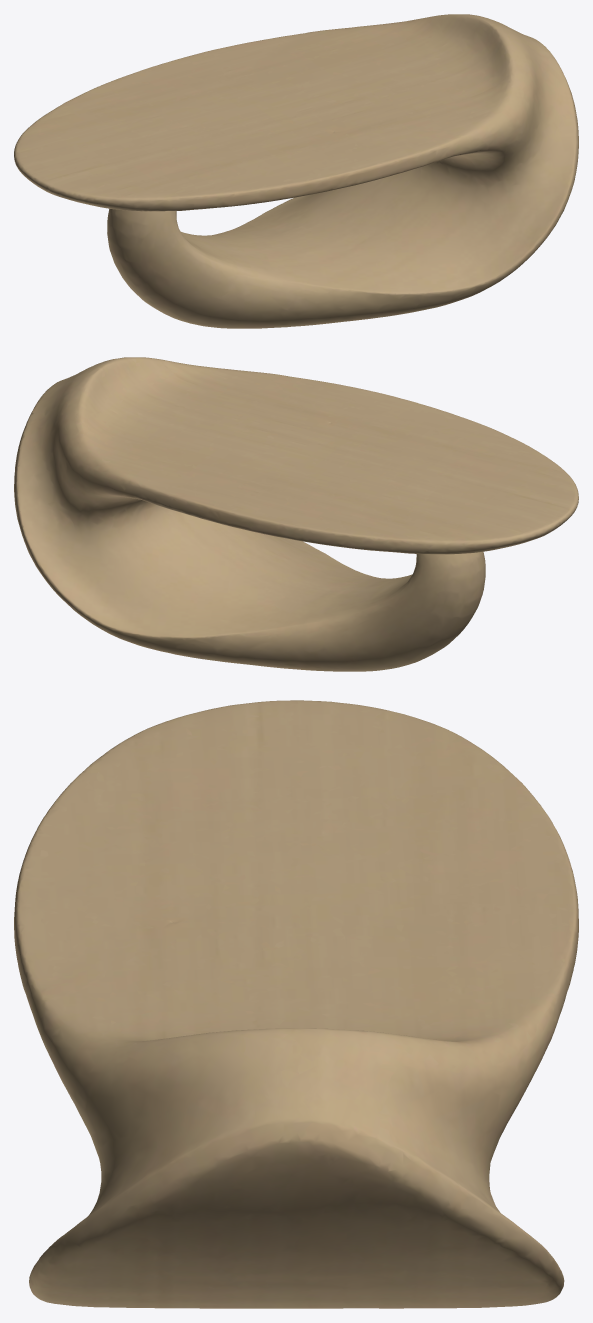
Rendered from coffee-table-pale-wood-sculptural-web-mesh.glb.
3 views of the same model, one above another, from view 1: azimuth 30°, elevation 25°; view 2: azimuth 150°, elevation 25°; view 3: azimuth 270°, elevation 25° (orthographic). The views are drawn at different scales.
Parts seen in each view (by area): view 1: world; view 2: world; view 3: world.
Boxes of the visible parts, box(x1,y1,x2,y2) form: world: box(14, 14, 578, 328); world: box(14, 357, 578, 671); world: box(14, 700, 578, 1308).
Size of the model in its own units: 1 by 0.4336 by 0.5445.
1 material, 1 textured.
